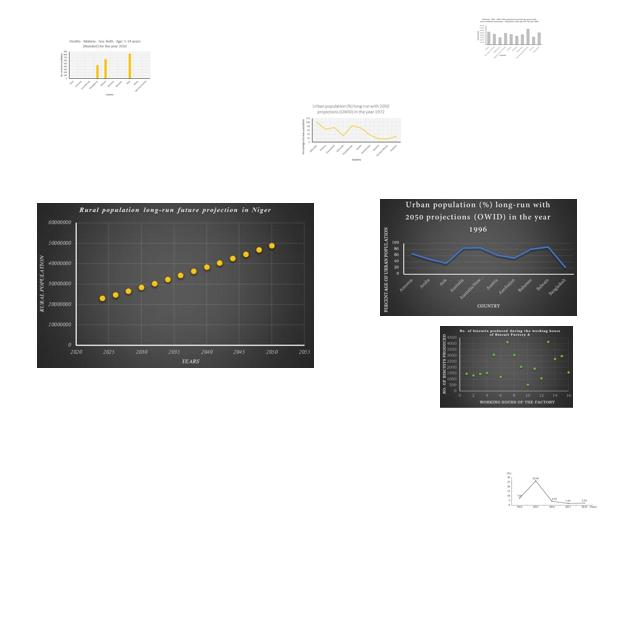Graph: (37, 203, 314, 368), (380, 199, 577, 316), (440, 326, 573, 408), (300, 103, 402, 162), (58, 38, 152, 97), (504, 469, 599, 511), (476, 18, 543, 59)
